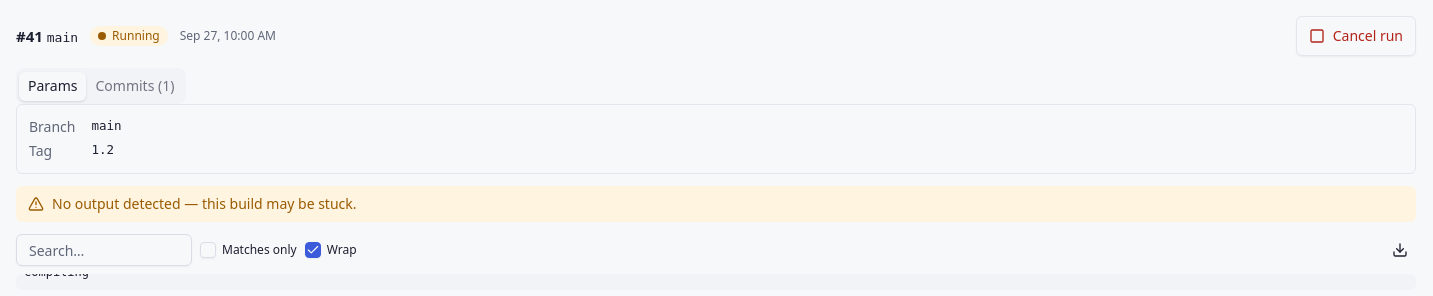
it: RunDetail › shows params, live commits, the stuck banner and the log
(page scrolled)
Expected: the heading "#41 main" is shown, [16,25,78,47]
Expected: the text "Running" is shown, [90,26,168,46]
Click the tab "Commits (1)" at (135,86), box [86,72,183,100]
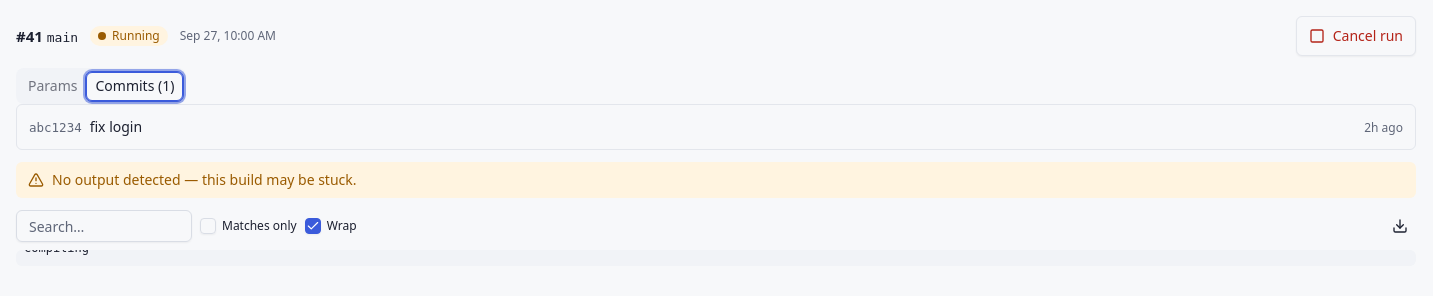
Result: the text "fix login" is shown at [90,117,142,136]
